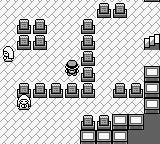main: (65, 60, 79, 76)
no-caminable: (16, 18, 95, 101), (80, 66, 159, 143), (17, 19, 47, 50), (128, 114, 159, 143), (96, 3, 128, 18), (112, 83, 144, 98), (81, 115, 112, 130)
npc: (17, 95, 32, 110), (2, 47, 14, 62)
puerta: (144, 33, 159, 50)
